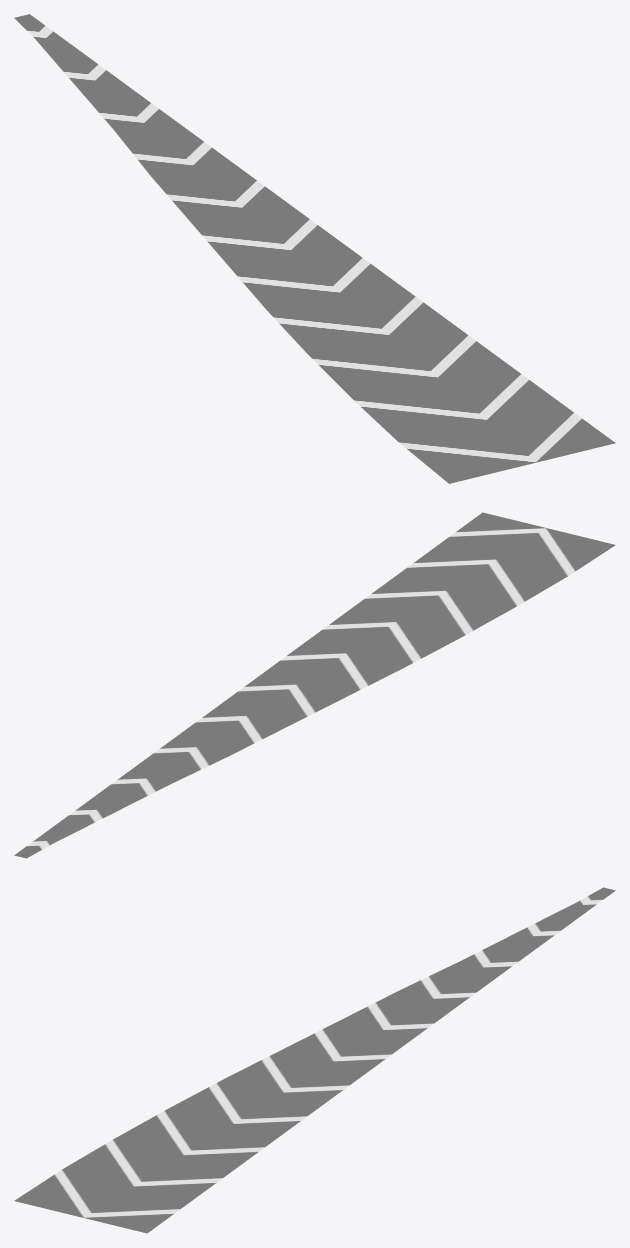
The model's file is Marking_Chevron_Large_On.fbx.
The picture shows the model from 3 angles, top to bottom: view 1: azimuth 30°, elevation 25°; view 2: azimuth 150°, elevation 25°; view 3: azimuth 330°, elevation 25°; orthographic projection. The views are drawn at different scales.
Visible parts, largest first — view 1: Marking_Chevron_Large_On; view 2: Marking_Chevron_Large_On; view 3: Marking_Chevron_Large_On.
Boxes of the visible parts, left/top/right/bottom form: Marking_Chevron_Large_On: left=14, top=14, right=615, bottom=483; Marking_Chevron_Large_On: left=14, top=512, right=615, bottom=858; Marking_Chevron_Large_On: left=14, top=887, right=615, bottom=1233.
Size of the model in its own units: 690 by 4200 by 0.000184.
